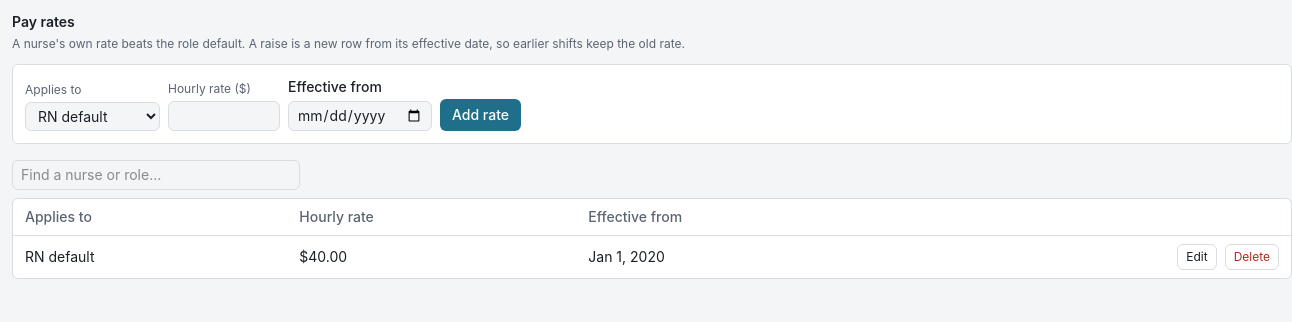
Test: pay rate list in Settings › Pay › says nothing matches when the search finds no rate
Type "zz" into the search field named "Find a rate by nurse or role" at (156, 175), box [12, 160, 300, 190]
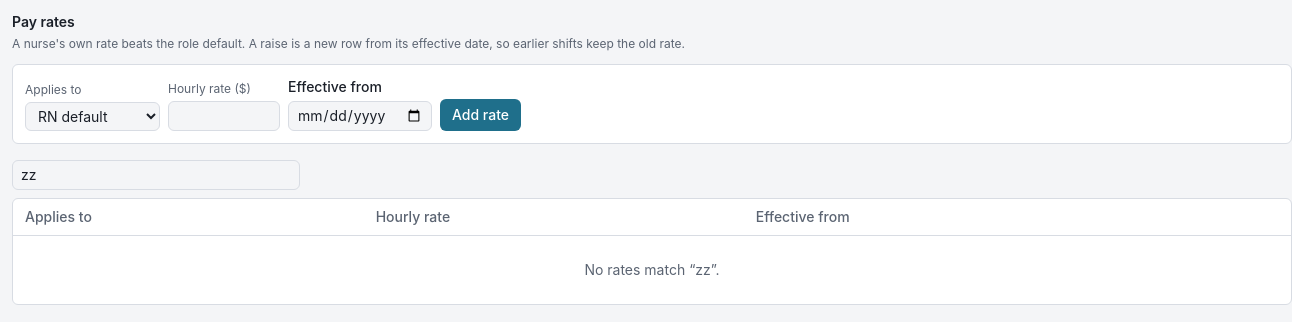
expect the text "No rates match “zz”." is shown: met, box [13, 236, 1291, 304]
